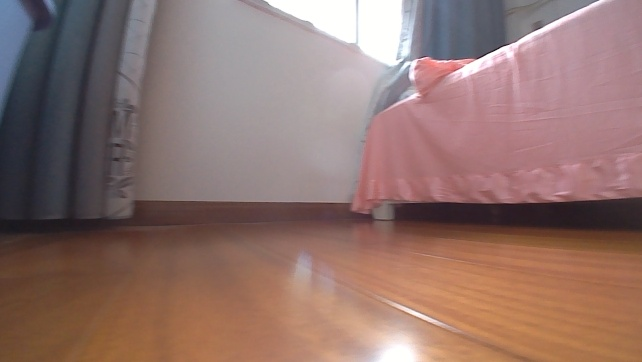bed1: (343, 0, 641, 224)
